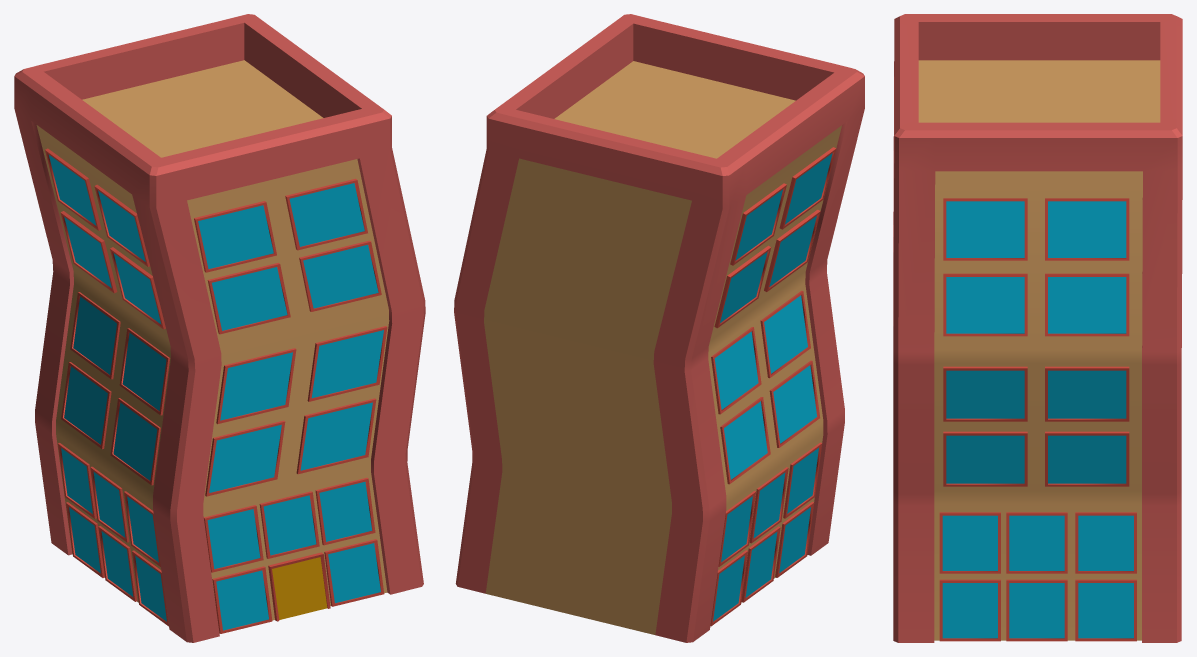
Rendered from Flat.fbx.
3 renders of one model, left to right at view 1: azimuth 30°, elevation 25°; view 2: azimuth 150°, elevation 25°; view 3: azimuth 270°, elevation 25°, orthographic. The views are drawn at different scales.
Parts seen in each view (by area): view 1: Cube.007; view 2: Cube.007; view 3: Cube.007.
Boxes of the visible parts, x1=… form: Cube.007: x1=14, y1=14, x2=425, y2=642; Cube.007: x1=454, y1=14, x2=864, y2=642; Cube.007: x1=893, y1=14, x2=1182, y2=642.
Size of the model in its own units: 7249 by 12099 by 6409.
